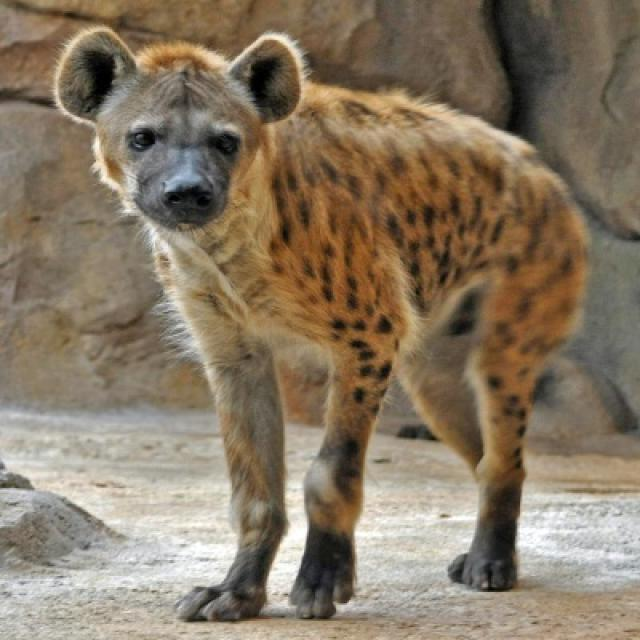hyena: (56, 27, 586, 619)
